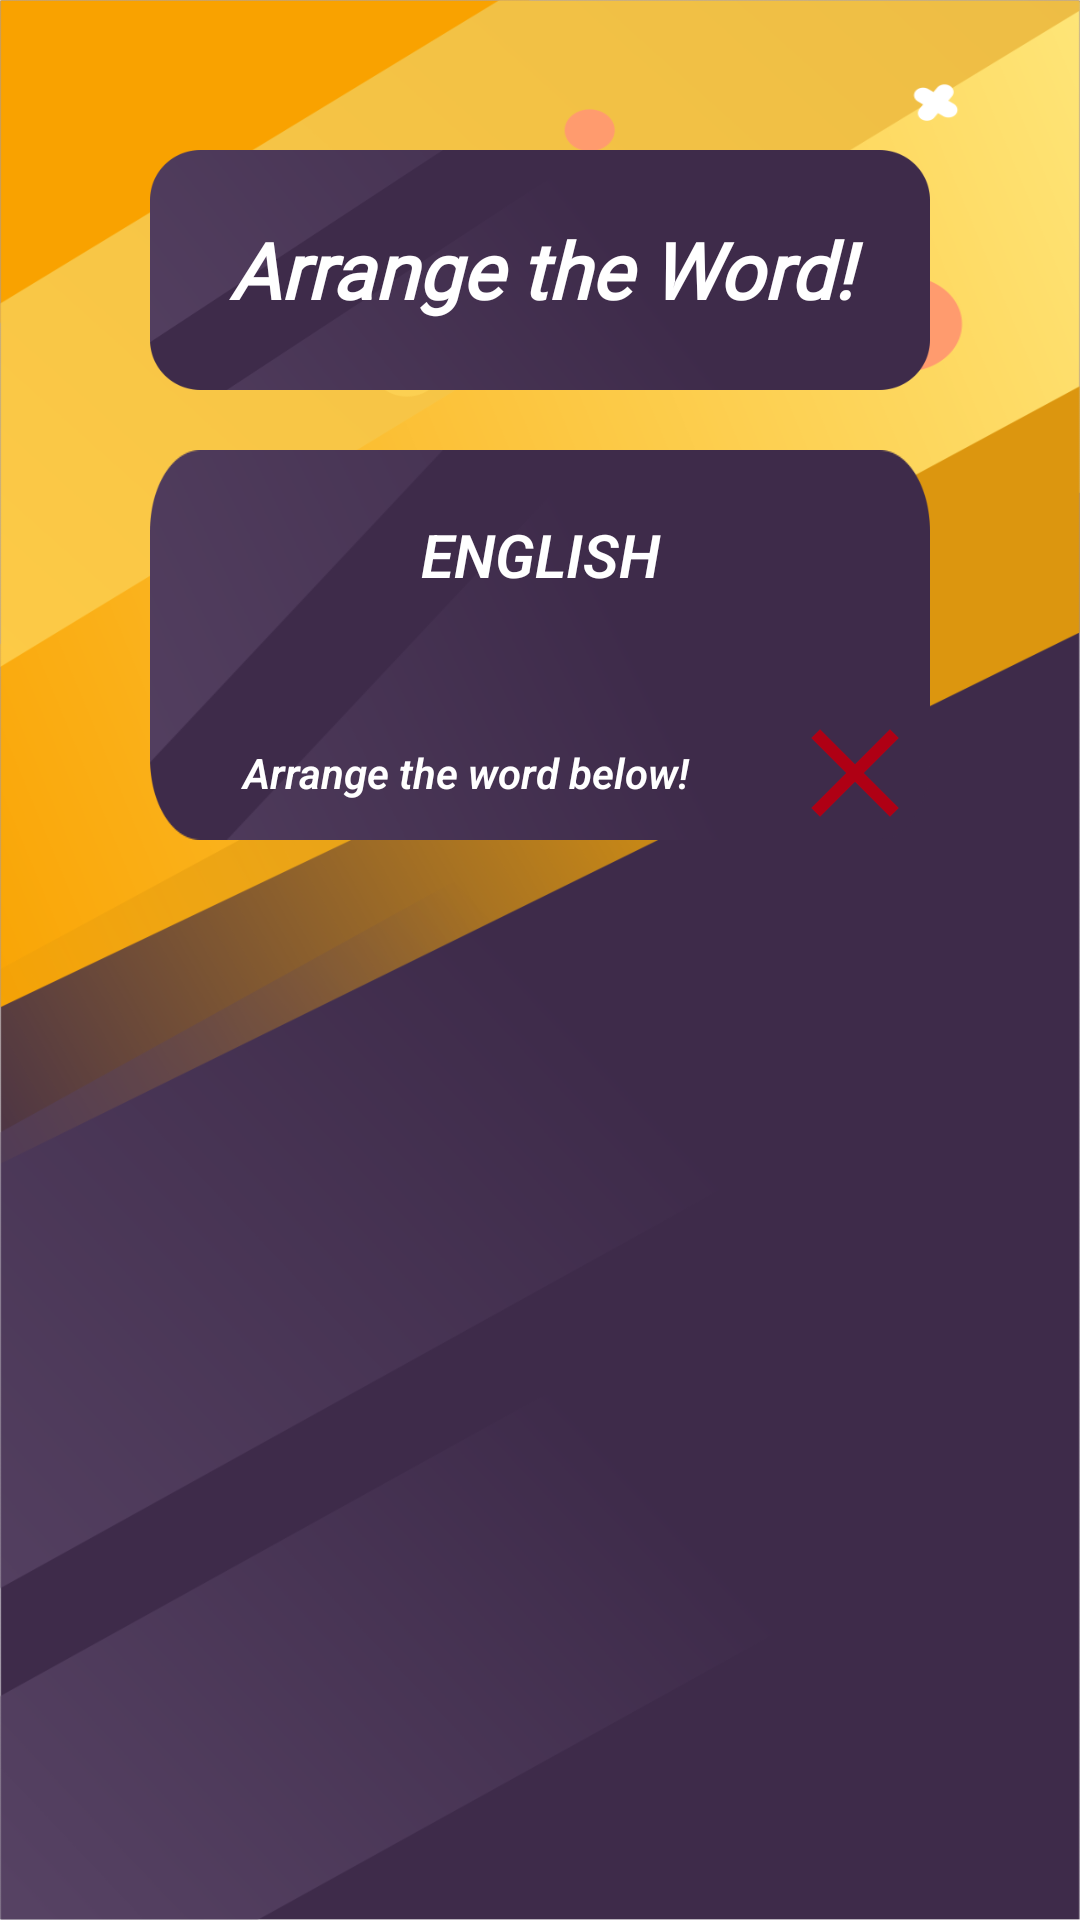

Where to tap for icons on this 1080 × 1920 app screen, as [x,y]:
wrong: [855,773]
